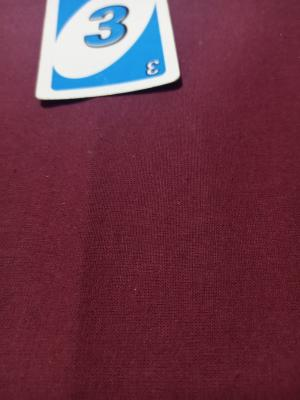blue: (57, 5, 165, 84)
